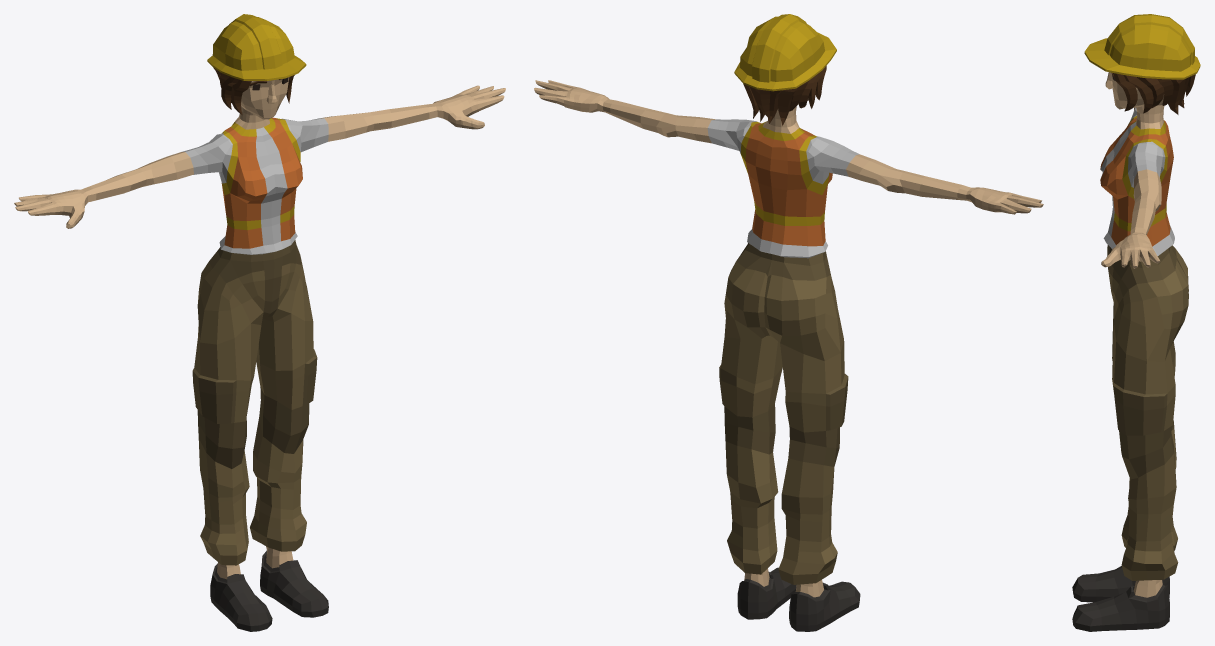
Rendered from Worker.fbx.
3 views of the same model, side by side, from view 1: azimuth 30°, elevation 25°; view 2: azimuth 150°, elevation 25°; view 3: azimuth 270°, elevation 25° (orthographic). The views are drawn at different scales.
Visible parts, largest first — view 1: Worker_Legs, Worker_Body, Worker_Head, Worker_Feet; view 2: Worker_Legs, Worker_Body, Worker_Head, Worker_Feet; view 3: Worker_Legs, Worker_Body, Worker_Head, Worker_Feet.
Boxes of the visible parts, x1=… form: Worker_Legs: x1=192, y1=240, x2=317, y2=565; Worker_Body: x1=14, y1=85, x2=505, y2=254; Worker_Head: x1=207, y1=14, x2=306, y2=122; Worker_Feet: x1=210, y1=546, x2=328, y2=631; Worker_Legs: x1=719, y1=243, x2=848, y2=584; Worker_Body: x1=534, y1=80, x2=1043, y2=258; Worker_Head: x1=734, y1=14, x2=836, y2=127; Worker_Feet: x1=737, y1=567, x2=860, y2=631; Worker_Legs: x1=1107, y1=245, x2=1188, y2=580; Worker_Body: x1=1100, y1=107, x2=1174, y2=268; Worker_Head: x1=1084, y1=14, x2=1200, y2=123; Worker_Feet: x1=1072, y1=566, x2=1169, y2=631.
Bounding box in the file's own units: 165 × 186 × 36.34.
